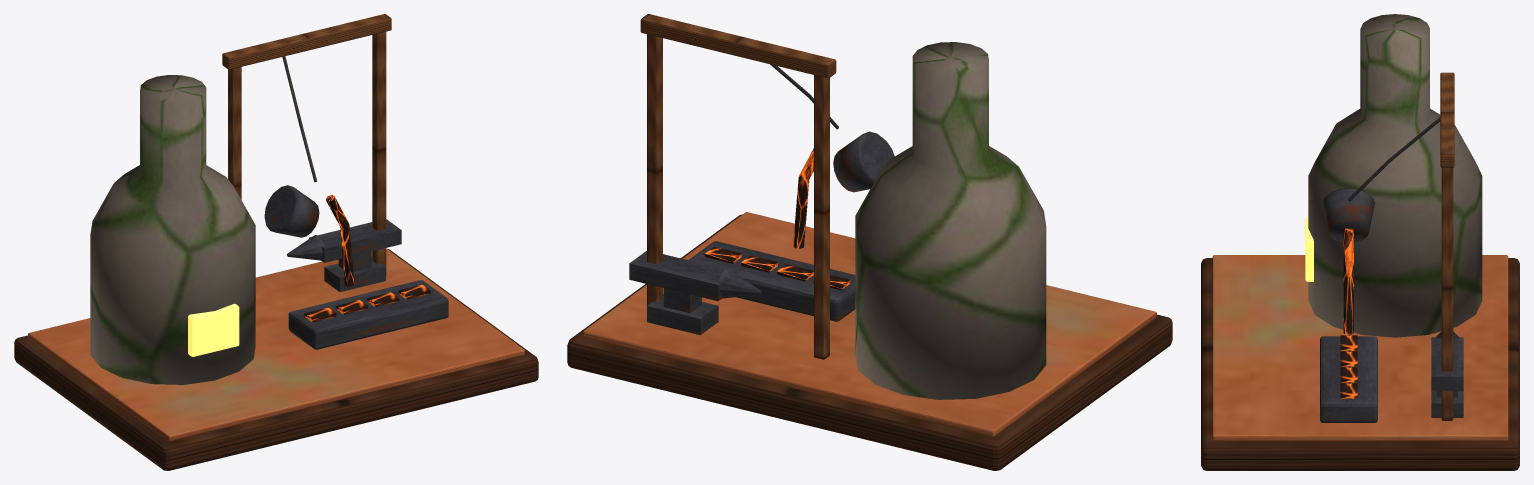
Rendered from mini_4.glb.
The picture shows the model from 3 angles, left to right: view 1: azimuth 30°, elevation 25°; view 2: azimuth 150°, elevation 25°; view 3: azimuth 270°, elevation 25°; orthographic projection. The views are drawn at different scales.
Parts seen in each view (by area): view 1: mini4_furnace, mini4_plinth_trim, mini4_plinth, mini4_ingot_mold, mini4_anvil, mini4_gantry_post.001, mini4_gantry_beam, mini4_furnace_mouth, mini4_crucible, mini4_gantry_post, mini4_glowing_ingots, mini4_molten_pour; view 2: mini4_furnace, mini4_plinth_trim, mini4_plinth, mini4_anvil, mini4_ingot_mold, mini4_gantry_post, mini4_gantry_beam, mini4_gantry_post.001, mini4_crucible, mini4_glowing_ingots, mini4_molten_pour; view 3: mini4_furnace, mini4_plinth_trim, mini4_plinth, mini4_ingot_mold, mini4_gantry_post.001, mini4_crucible, mini4_anvil, mini4_gantry_beam, mini4_molten_pour, mini4_glowing_ingots, mini4_furnace_mouth, mini4_chain.
Part boxes in pixels (box(x1,y1,x2,y2)): mini4_furnace: box(90, 75, 255, 384); mini4_plinth_trim: box(28, 248, 524, 441); mini4_plinth: box(14, 249, 538, 470); mini4_ingot_mold: box(288, 280, 448, 349); mini4_anvil: box(287, 219, 401, 292); mini4_gantry_post.001: box(372, 31, 386, 275); mini4_gantry_beam: box(222, 14, 391, 69); mini4_furnace_mouth: box(188, 303, 239, 356); mini4_crucible: box(264, 185, 319, 237); mini4_gantry_post: box(228, 67, 241, 199); mini4_glowing_ingots: box(304, 284, 430, 322); mini4_molten_pour: box(326, 195, 354, 286); mini4_furnace: box(855, 42, 1046, 399); mini4_plinth_trim: box(583, 212, 1156, 436); mini4_plinth: box(567, 214, 1172, 470); mini4_anvil: box(629, 251, 761, 335); mini4_ingot_mold: box(688, 241, 855, 321); mini4_gantry_post: box(814, 75, 829, 359); mini4_gantry_beam: box(640, 14, 836, 78); mini4_gantry_post.001: box(647, 34, 662, 305); mini4_crucible: box(833, 131, 894, 192); mini4_glowing_ingots: box(704, 246, 850, 290); mini4_molten_pour: box(793, 148, 813, 248); mini4_furnace: box(1308, 14, 1482, 337); mini4_plinth_trim: box(1212, 255, 1508, 441); mini4_plinth: box(1201, 258, 1519, 470); mini4_ingot_mold: box(1320, 336, 1377, 422); mini4_gantry_post.001: box(1441, 167, 1453, 420); mini4_crucible: box(1323, 188, 1374, 242); mini4_anvil: box(1431, 331, 1463, 417); mini4_gantry_beam: box(1440, 72, 1454, 167); mini4_molten_pour: box(1343, 228, 1353, 334); mini4_glowing_ingots: box(1340, 335, 1357, 398); mini4_furnace_mouth: box(1305, 217, 1313, 281); mini4_chain: box(1347, 117, 1440, 201).
Size of the model in its own units: 0.78 by 0.58 by 0.55.
7 materials, 6 textured.
